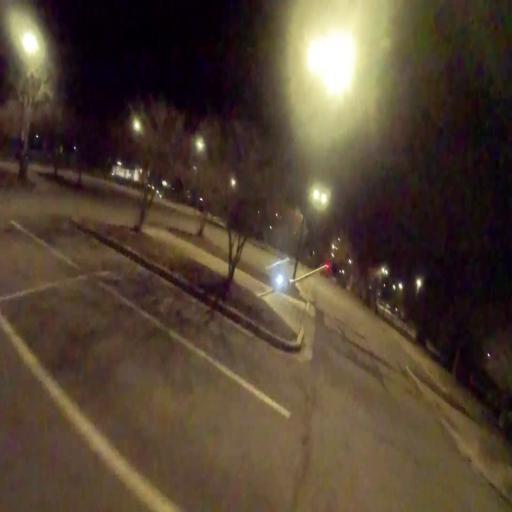uav: (253, 250, 331, 302)
